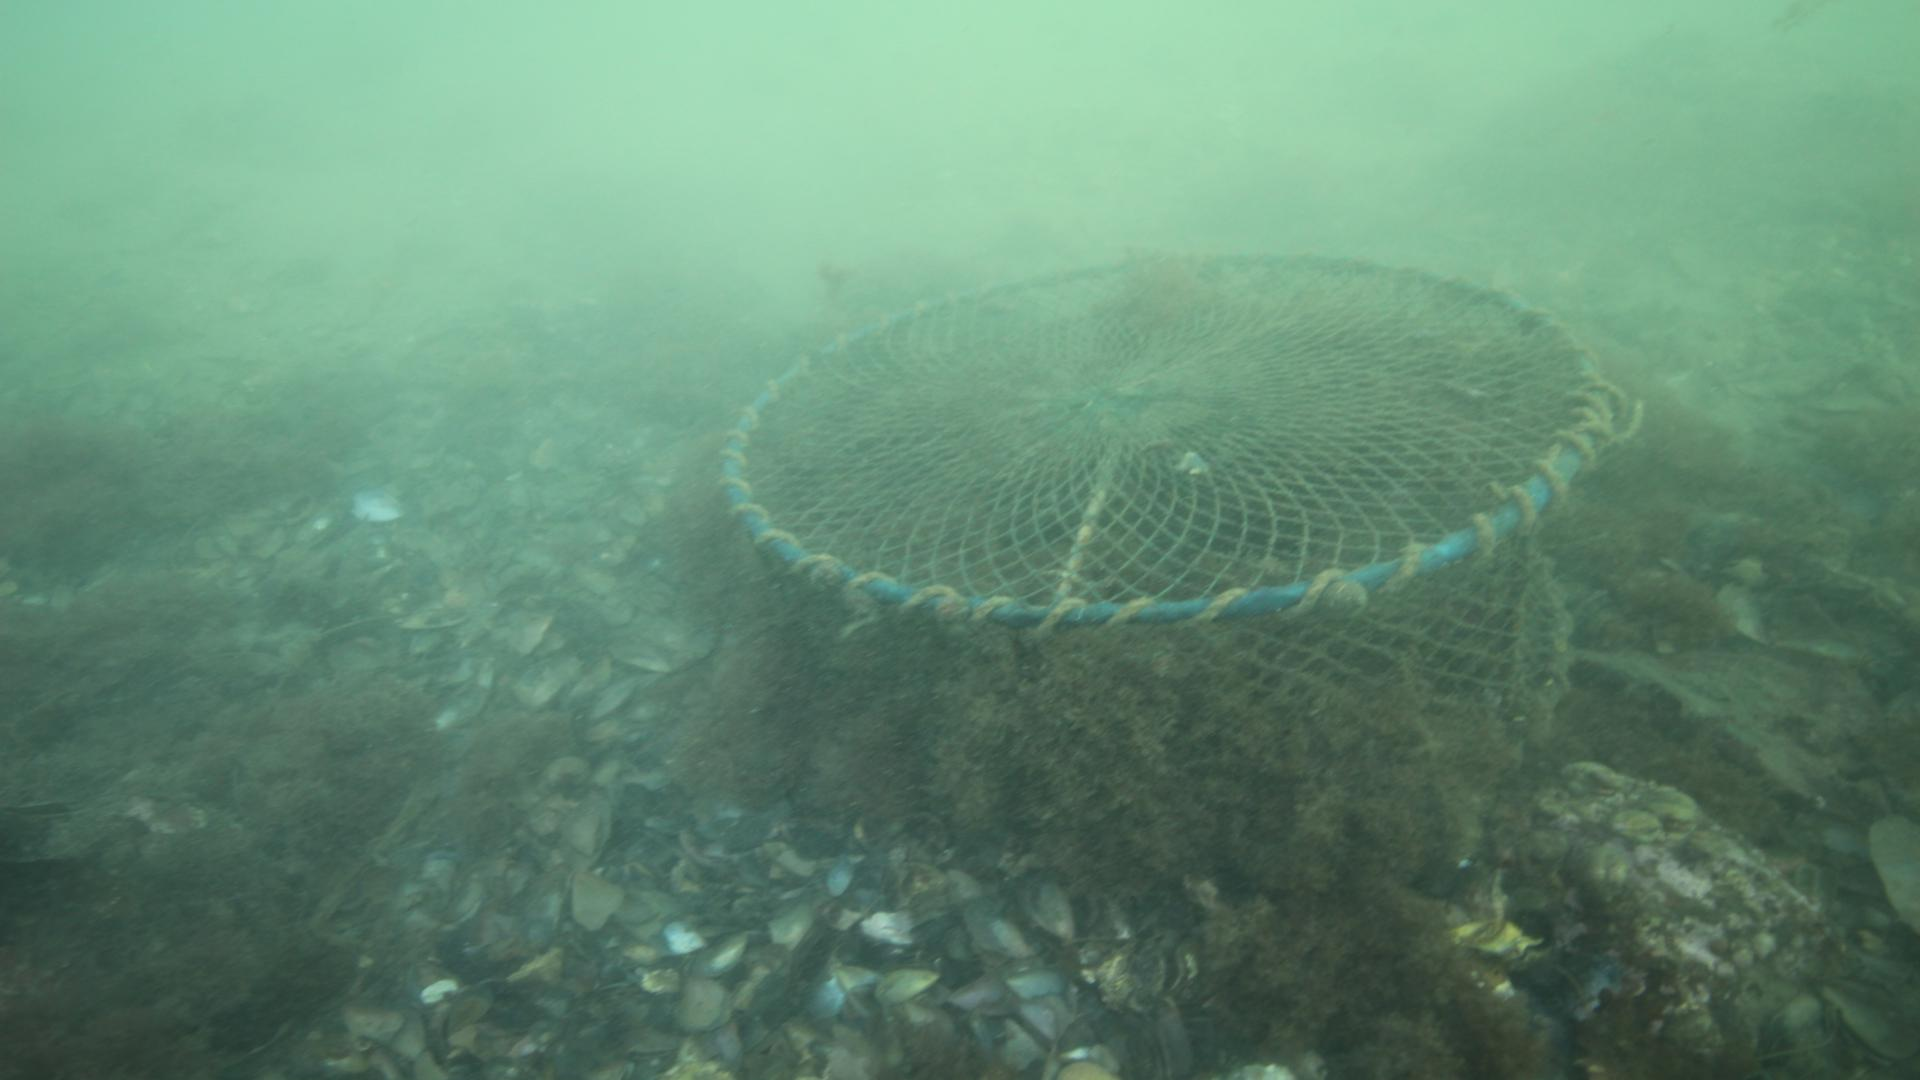circular fish trap: (715, 247, 1640, 775)
